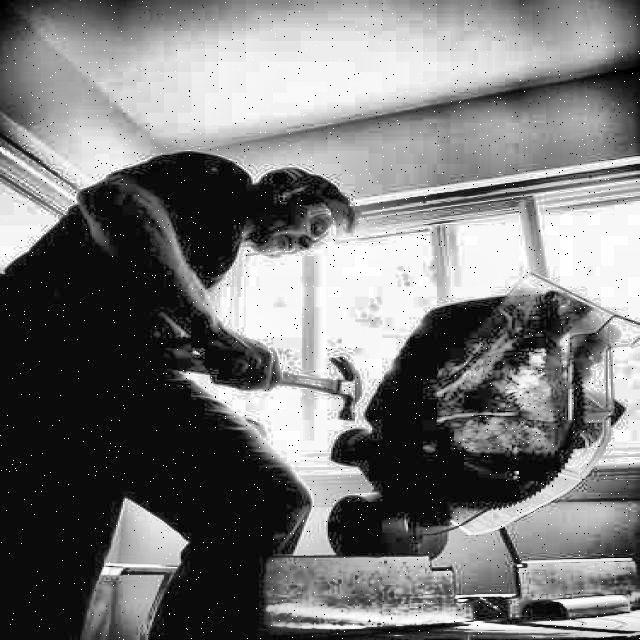hammer: (213, 353, 367, 419)
